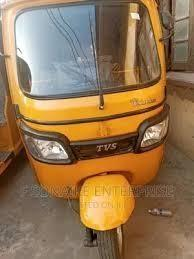keke: (2, 0, 172, 259)
